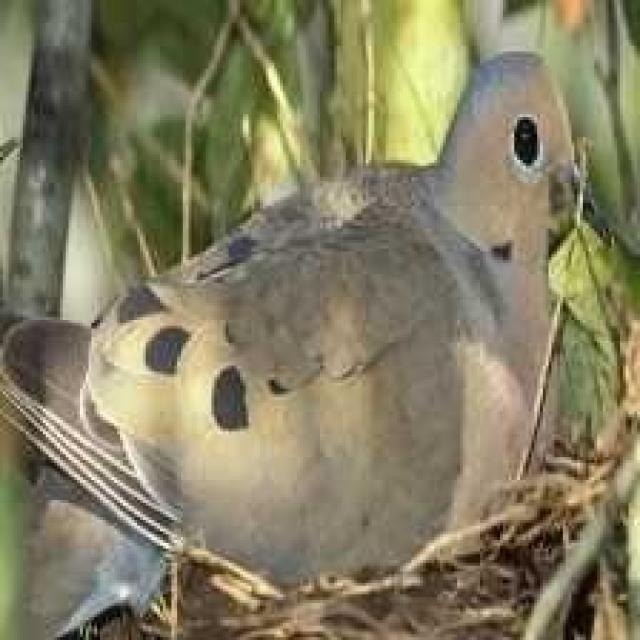dove: (0, 36, 601, 640)
